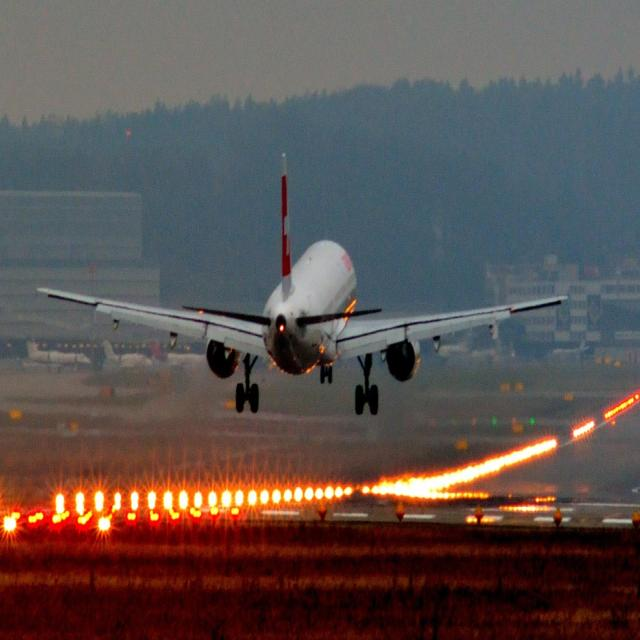plain: (42, 163, 570, 388)
